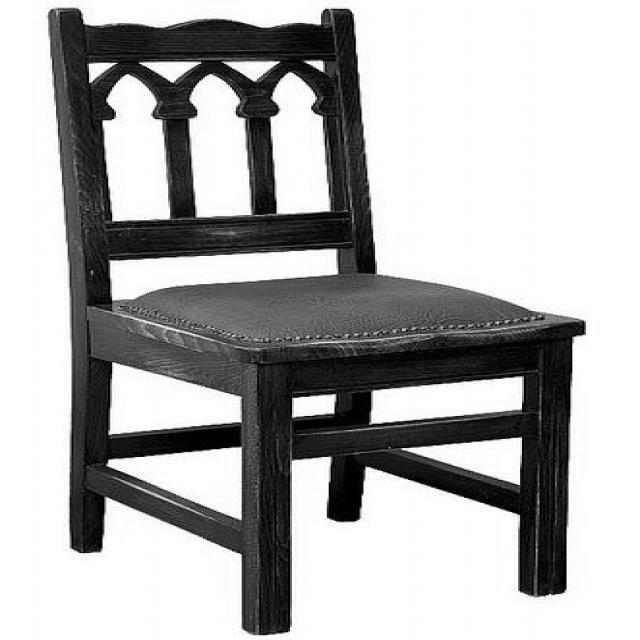chair: (42, 2, 586, 632)
